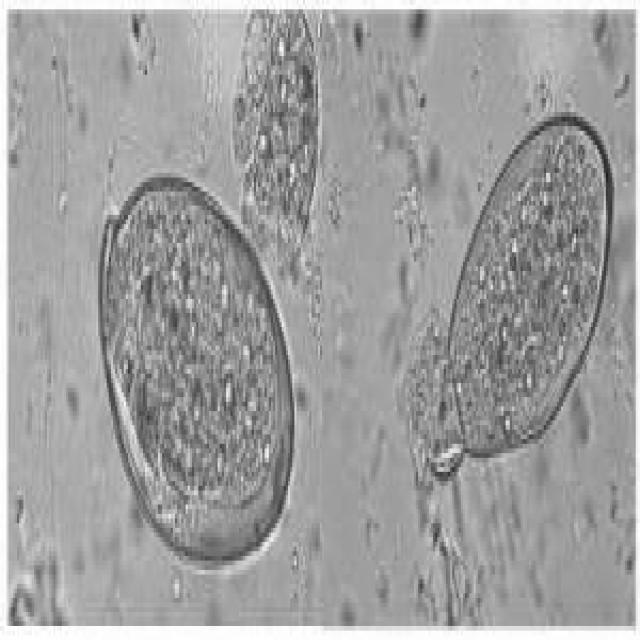Fasciola Hepatica: (95, 170, 302, 582), (442, 103, 616, 467)
